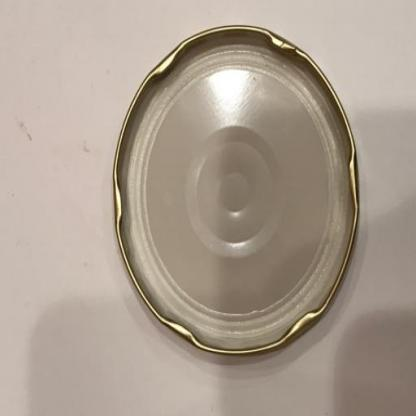Metal: (115, 26, 360, 355)
